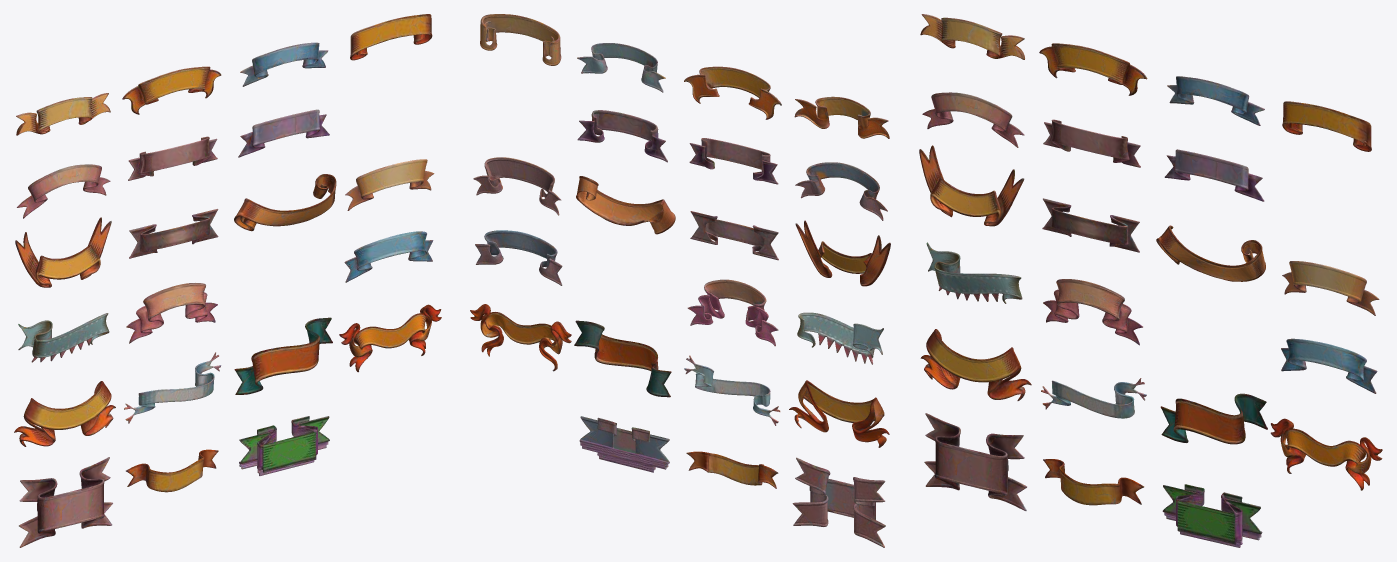
3 renders of one model, left to right at view 1: azimuth 30°, elevation 25°; view 2: azimuth 150°, elevation 25°; view 3: azimuth 330°, elevation 25°, orthographic. The views are drawn at different scales.
Visible parts, largest first — view 1: Mesh 5, Mesh 15, Mesh 2, Mesh 14, Mesh 1, Mesh 22, Mesh 10, Mesh 13, Mesh 6, Mesh 7, Mesh 24, Mesh 26 (+9 smaller); view 2: Mesh 5, Mesh 15, Mesh 2, Mesh 14, Mesh 10, Mesh 22, Mesh 13, Mesh 6, Mesh 7, Mesh 1, Mesh 26, Mesh 28 (+9 smaller); view 3: Mesh 5, Mesh 15, Mesh 2, Mesh 14, Mesh 22, Mesh 1, Mesh 10, Mesh 6, Mesh 7, Mesh 24, Mesh 26, Mesh 13 (+9 smaller).
Boxes of the visible parts, x1,y1,x2,y2 form: Mesh 5: (19, 457, 112, 547); Mesh 15: (239, 416, 329, 475); Mesh 2: (14, 381, 115, 446); Mesh 14: (234, 317, 332, 394); Mesh 1: (15, 217, 111, 287); Mesh 22: (339, 304, 441, 372); Mesh 10: (126, 283, 217, 343); Mesh 13: (234, 174, 336, 231); Mesh 6: (18, 313, 109, 362); Mesh 7: (122, 66, 221, 114); Mesh 24: (344, 231, 433, 282); Mesh 26: (345, 159, 434, 210); Mesh 5: (792, 457, 885, 547); Mesh 15: (579, 416, 669, 472); Mesh 2: (789, 380, 889, 447); Mesh 14: (574, 320, 671, 397); Mesh 10: (687, 279, 778, 346); Mesh 22: (470, 304, 571, 371); Mesh 13: (576, 176, 675, 234); Mesh 6: (797, 312, 883, 364); Mesh 7: (684, 66, 781, 119); Mesh 1: (795, 220, 890, 286); Mesh 26: (473, 157, 561, 215); Mesh 28: (480, 14, 561, 65); Mesh 5: (924, 413, 1026, 510); Mesh 15: (1162, 484, 1262, 547); Mesh 2: (920, 329, 1031, 400); Mesh 14: (1160, 393, 1267, 444); Mesh 22: (1270, 418, 1382, 490); Mesh 1: (919, 145, 1024, 226); Mesh 10: (1043, 279, 1142, 345); Mesh 6: (926, 242, 1022, 303); Mesh 7: (1039, 43, 1147, 95); Mesh 24: (1281, 338, 1377, 393); Mesh 26: (1282, 261, 1379, 315); Mesh 13: (1156, 225, 1265, 281).
Size of the model in its own units: 1.89 by 1.88 by 0.085.
Materials: 1 (1 with a texture image).
